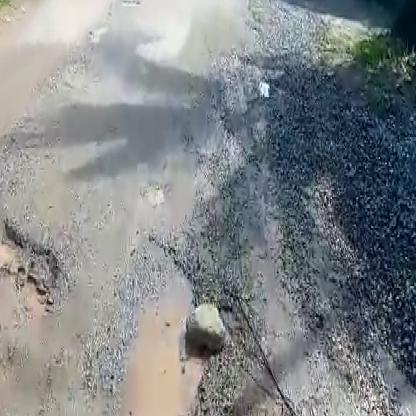pothole: (101, 242, 207, 416), (0, 221, 66, 317)
